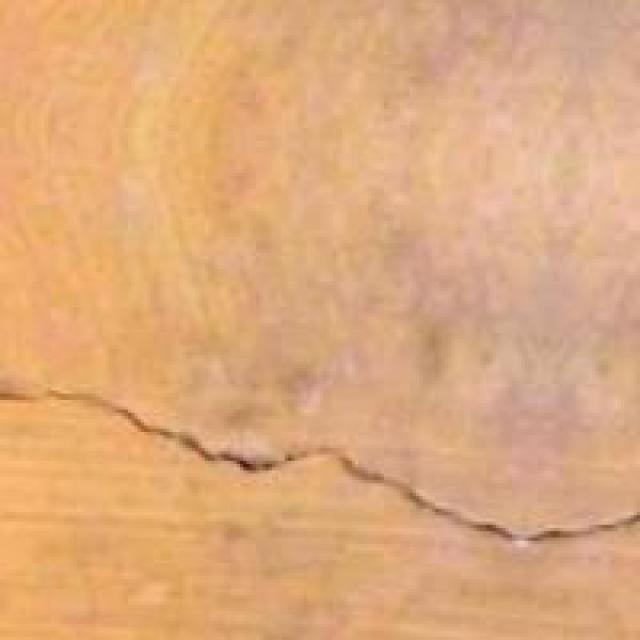crack: (3, 310, 637, 637)
